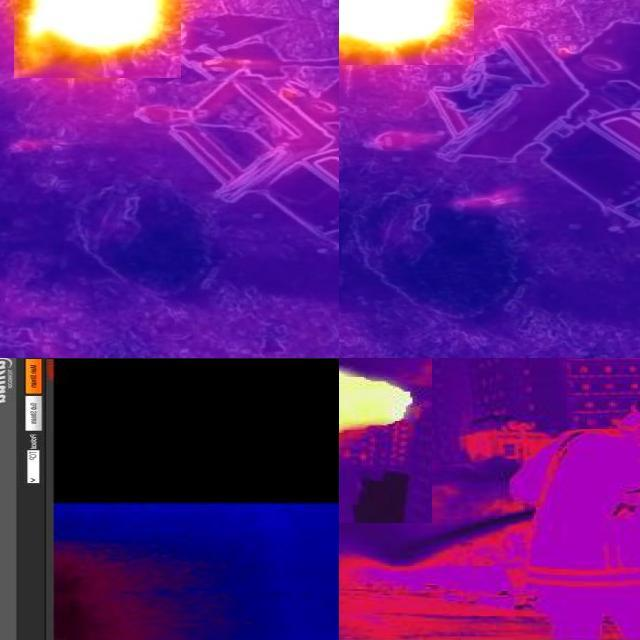fire: (15, 1, 182, 78), (340, 1, 475, 65), (340, 359, 418, 445)
